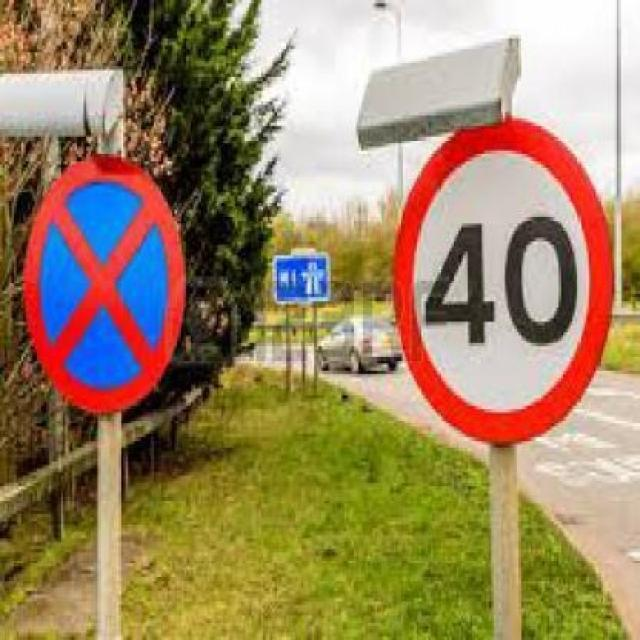forb_speed_over_40: (400, 119, 609, 438)
